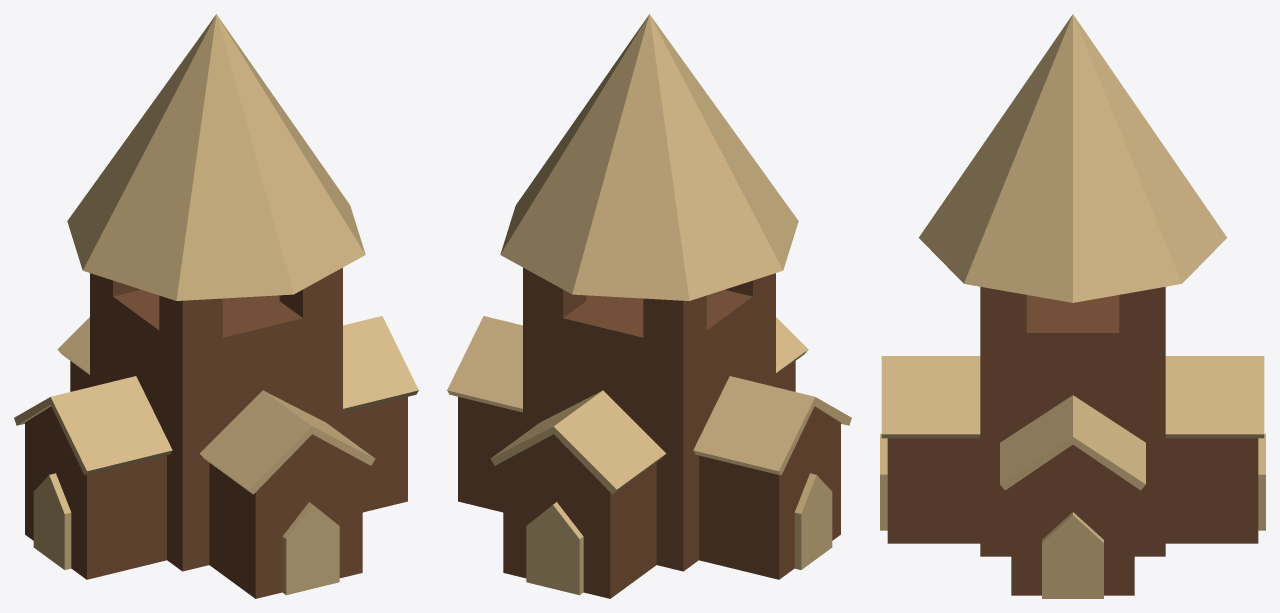
The model's file is 690 Hall.fbx.
3 renders of one model, left to right at view 1: azimuth 30°, elevation 25°; view 2: azimuth 150°, elevation 25°; view 3: azimuth 270°, elevation 25°, orthographic.
Parts seen in each view (by area): view 1: Cone; view 2: Cone; view 3: Cone.
Boxes of the visible parts, box(x1,y1,x2,y2) form: Cone: box(14, 14, 418, 598); Cone: box(447, 14, 851, 598); Cone: box(880, 14, 1265, 598).
Size of the model in its own units: 625 by 900 by 625.
